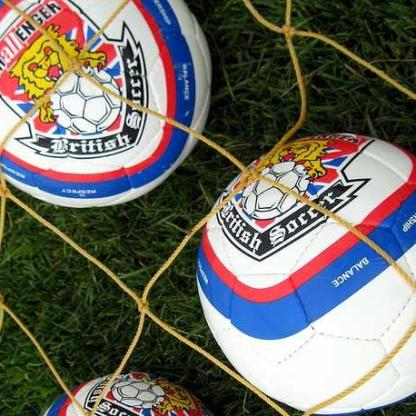ball: (199, 132, 416, 416), (0, 0, 213, 207), (26, 372, 230, 416)
